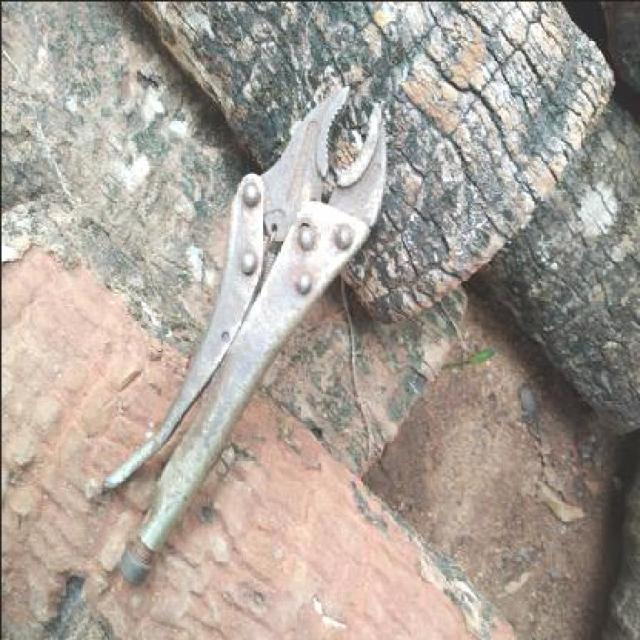pliers: (95, 80, 392, 585)
